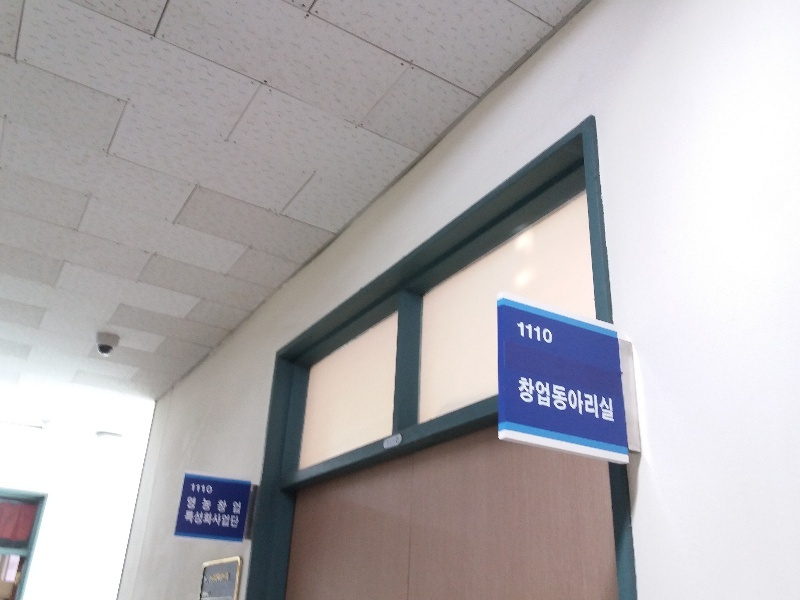text: (529, 374, 544, 427), (545, 374, 560, 427), (561, 374, 576, 427), (577, 374, 592, 427), (593, 374, 608, 427), (519, 374, 528, 427), (529, 320, 544, 347), (609, 374, 616, 427), (516, 320, 528, 347), (193, 509, 208, 530), (209, 509, 224, 530), (225, 509, 240, 530), (193, 495, 208, 516), (209, 495, 224, 516), (225, 495, 240, 516), (545, 320, 554, 347), (193, 483, 208, 496), (209, 572, 224, 584), (185, 509, 192, 530), (386, 437, 400, 446), (188, 495, 192, 516), (209, 483, 213, 496), (225, 572, 229, 584), (190, 483, 192, 496), (241, 495, 242, 516)
